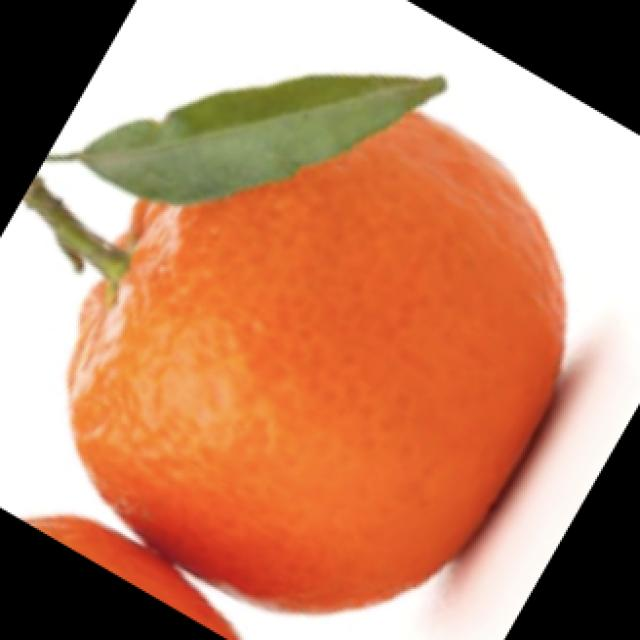matang: (68, 111, 555, 616), (29, 518, 234, 638)
